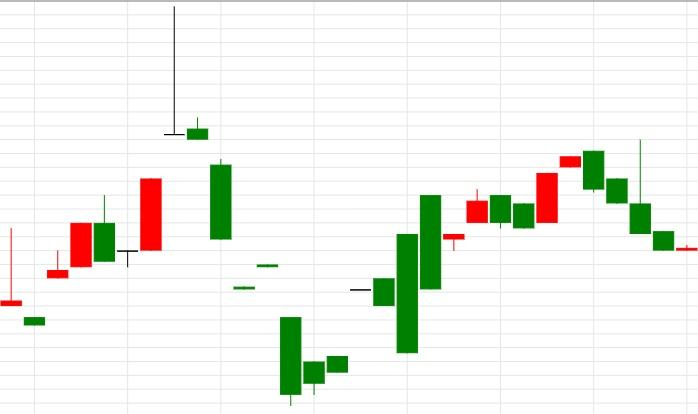bearish_engulfing_fall: (279, 150, 605, 405)
